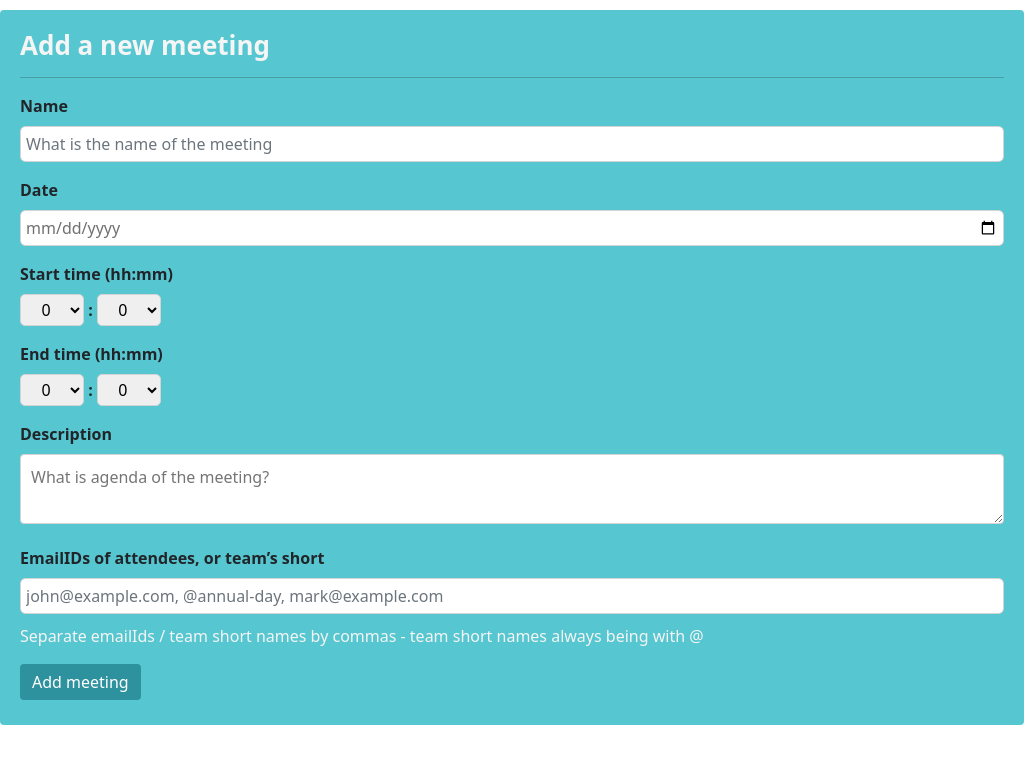
Test case: Add meeting › errors are shown when all the required meeting data is not provided
Expected: the heading "Add a new meeting" is shown, [20,27,270,63]
Expected: the field labelled "Name" is shown, [20,126,1004,162]
Click the button "Add meeting" at point(80, 682), box [20,664,141,700]
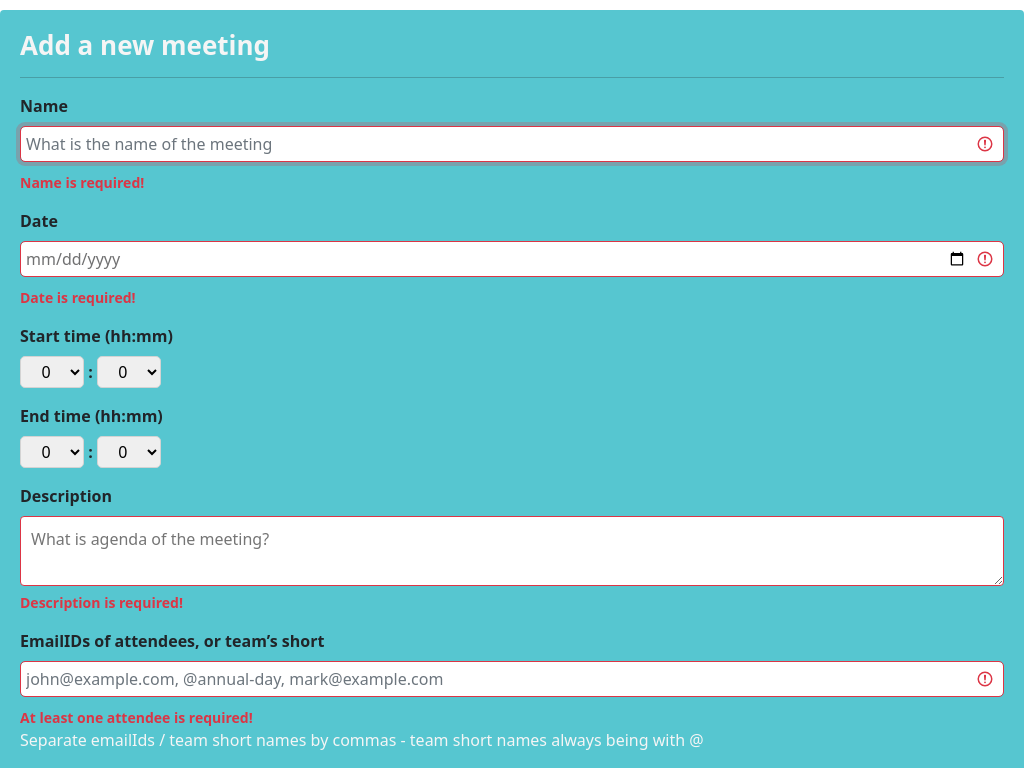
Now the text "Name is required!" is shown, box [20,173,144,192]
Now the text "Date is required!" is shown, box [20,288,136,307]
Now the text "Description is required!" is shown, box [20,593,183,612]
